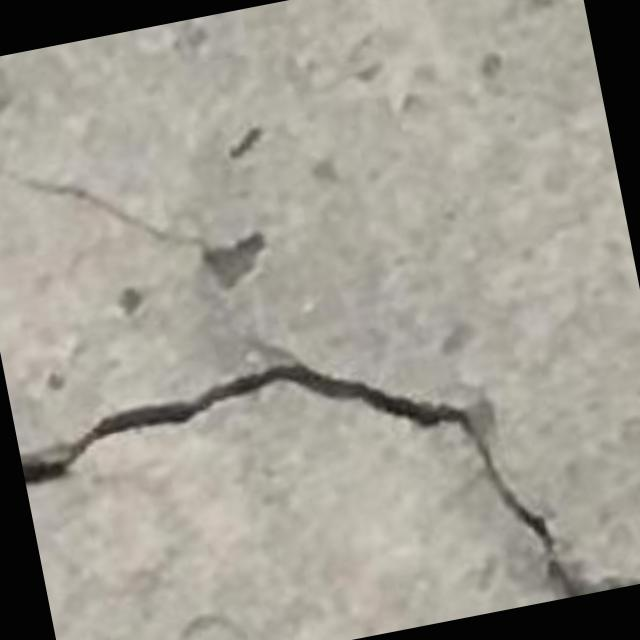crack: (20, 361, 582, 597)
